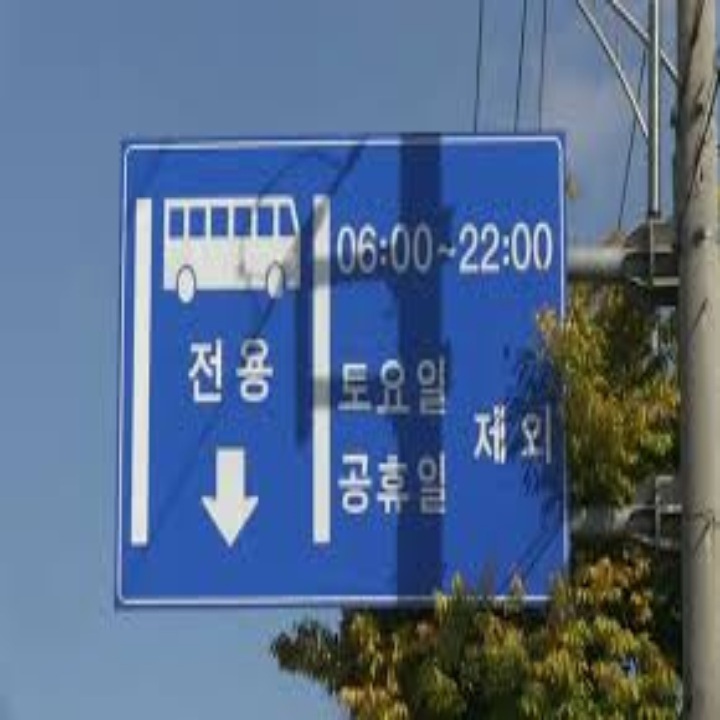bus: (159, 178, 305, 314)
